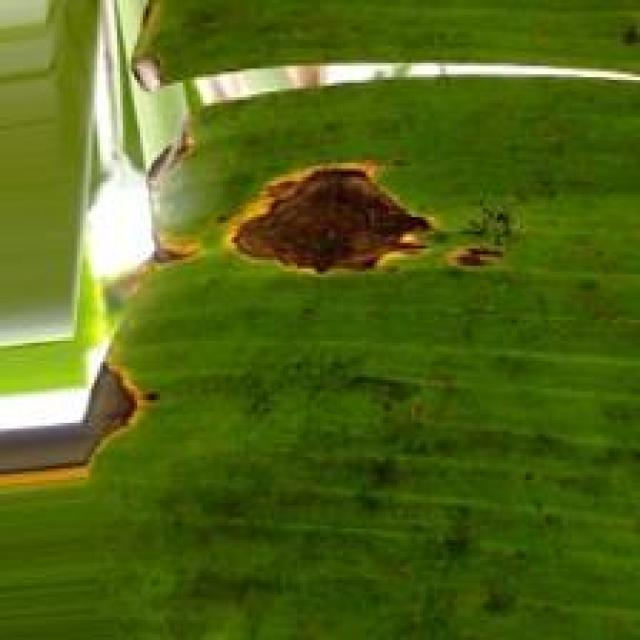Bacterial_spot: (219, 141, 440, 294), (0, 354, 165, 506), (119, 121, 213, 290), (440, 204, 514, 301), (106, 38, 194, 103), (619, 0, 640, 64)
